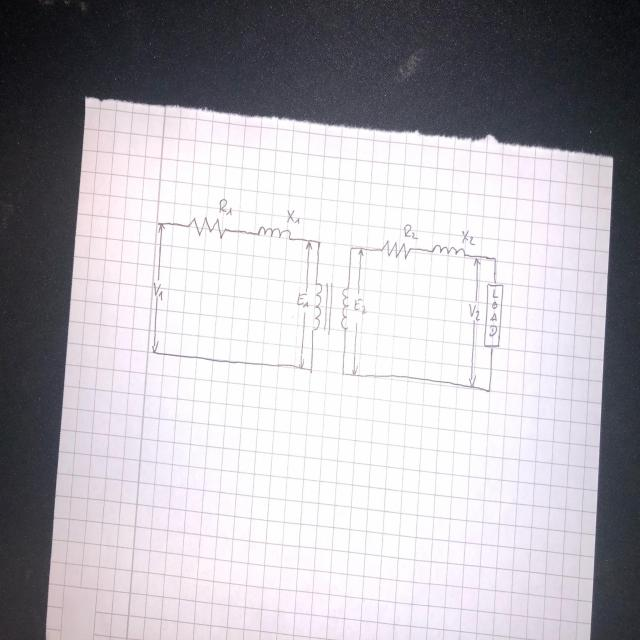inductor: (256, 224, 291, 243), (431, 241, 466, 260)
junction: (484, 385, 492, 394), (307, 364, 314, 374), (339, 368, 346, 378), (491, 255, 498, 264), (316, 238, 322, 248), (348, 244, 354, 254)
resistor: (483, 282, 504, 349), (185, 214, 226, 240), (378, 238, 411, 260)
terminal: (156, 219, 166, 228), (151, 347, 159, 358)
text: (488, 288, 498, 337), (286, 207, 301, 226), (461, 228, 476, 246), (152, 280, 164, 301), (296, 290, 308, 310), (219, 198, 232, 216), (353, 296, 366, 314), (469, 300, 480, 320), (404, 223, 416, 239)
transformer: (310, 278, 349, 334)
